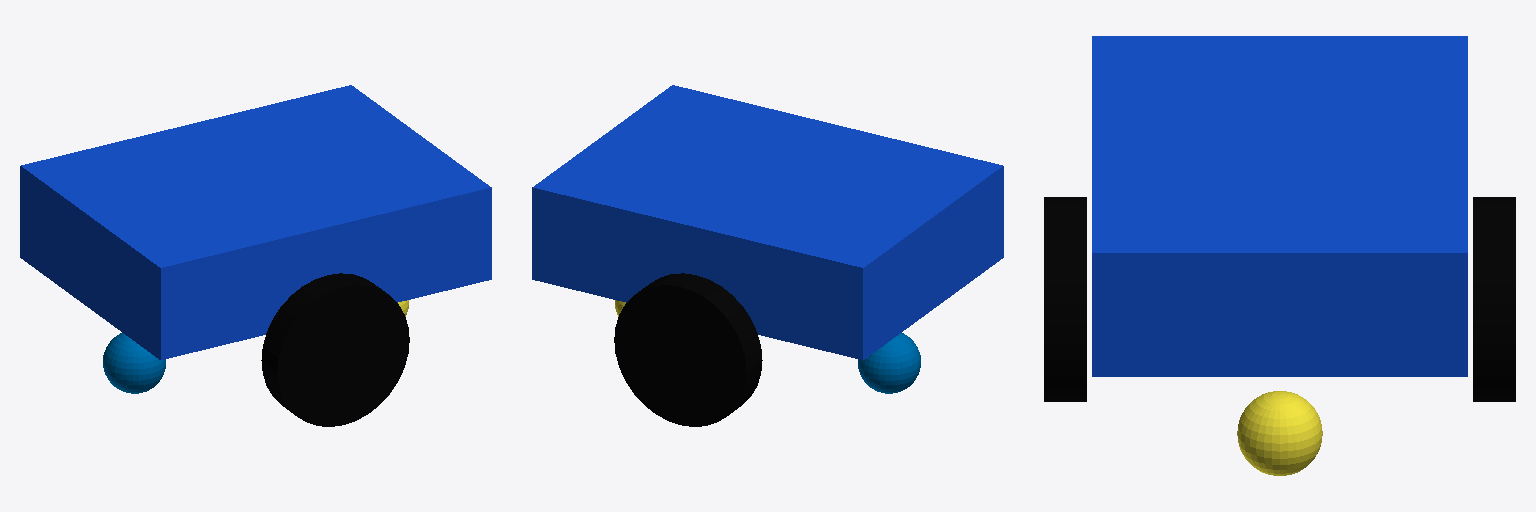
The robot description file, URDF, robot "course_mobile":
<?xml version="1.0"?>
<robot name="course_mobile">
  <material name="blue"><color rgba="0.1 0.35 0.85 1"/></material>
  <material name="black"><color rgba="0.05 0.05 0.05 1"/></material>
  <link name="base_link">
    <inertial><mass value="3"/><inertia ixx="0.0137" ixy="0" ixz="0" iyy="0.0241" iyz="0" izz="0.0346"/></inertial>
    <visual><geometry><box size="0.30 0.22 0.08"/></geometry><material name="blue"/></visual>
    <collision><geometry><box size="0.30 0.22 0.08"/></geometry></collision>
  </link>
  <link name="left_wheel">
    <inertial><mass value="0.15"/><inertia ixx="0.00015" ixy="0" ixz="0" iyy="0.00027" iyz="0" izz="0.00015"/></inertial>
    <visual><origin rpy="1.57079632679 0 0"/><geometry><cylinder radius="0.06" length="0.025"/></geometry><material name="black"/></visual>
    <collision><origin rpy="1.57079632679 0 0"/><geometry><cylinder radius="0.06" length="0.025"/></geometry></collision>
  </link>
  <link name="right_wheel">
    <inertial><mass value="0.15"/><inertia ixx="0.00015" ixy="0" ixz="0" iyy="0.00027" iyz="0" izz="0.00015"/></inertial>
    <visual><origin rpy="1.57079632679 0 0"/><geometry><cylinder radius="0.06" length="0.025"/></geometry><material name="black"/></visual>
    <collision><origin rpy="1.57079632679 0 0"/><geometry><cylinder radius="0.06" length="0.025"/></geometry></collision>
  </link>
  <joint name="left_wheel_joint" type="continuous"><parent link="base_link"/><child link="left_wheel"/><origin xyz="0 0.125 -0.06"/><axis xyz="0 1 0"/><dynamics damping="0.02" friction="0"/></joint>
  <joint name="right_wheel_joint" type="continuous"><parent link="base_link"/><child link="right_wheel"/><origin xyz="0 -0.125 -0.06"/><axis xyz="0 1 0"/><dynamics damping="0.02" friction="0"/></joint>
  <link name="front_caster">
    <inertial><mass value="0.02"/><inertia ixx="0.000005" ixy="0" ixz="0" iyy="0.000005" iyz="0" izz="0.000005"/></inertial>
    <visual><geometry><sphere radius="0.025"/></geometry></visual>
    <collision><geometry><sphere radius="0.025"/></geometry></collision>
  </link>
  <joint name="front_caster_joint" type="fixed"><parent link="base_link"/><child link="front_caster"/><origin xyz="0.11 0 -0.095"/></joint>
  <link name="rear_caster">
    <inertial><mass value="0.02"/><inertia ixx="0.000005" ixy="0" ixz="0" iyy="0.000005" iyz="0" izz="0.000005"/></inertial>
    <visual><geometry><sphere radius="0.025"/></geometry></visual>
    <collision><geometry><sphere radius="0.025"/></geometry></collision>
  </link>
  <joint name="rear_caster_joint" type="fixed"><parent link="base_link"/><child link="rear_caster"/><origin xyz="-0.11 0 -0.095"/></joint>
  <gazebo reference="base_link"><material>Gazebo/Blue</material></gazebo>
  <gazebo reference="left_wheel"><mu1>1</mu1><mu2>1</mu2><material>Gazebo/Black</material></gazebo>
  <gazebo reference="right_wheel"><mu1>1</mu1><mu2>1</mu2><material>Gazebo/Black</material></gazebo>
  <gazebo reference="front_caster"><mu1>0.01</mu1><mu2>0.01</mu2></gazebo>
  <gazebo reference="rear_caster"><mu1>0.01</mu1><mu2>0.01</mu2></gazebo>
  <gazebo>
    <plugin name="differential_drive" filename="libgazebo_ros_diff_drive.so">
      <robotNamespace>/</robotNamespace><updateRate>50</updateRate>
      <leftJoint>left_wheel_joint</leftJoint><rightJoint>right_wheel_joint</rightJoint>
      <wheelSeparation>0.25</wheelSeparation><wheelDiameter>0.12</wheelDiameter>
      <wheelAcceleration>1.0</wheelAcceleration><wheelTorque>3</wheelTorque>
      <commandTopic>cmd_vel</commandTopic><odometryTopic>odom</odometryTopic>
      <odometryFrame>odom</odometryFrame><robotBaseFrame>base_link</robotBaseFrame>
      <odometrySource>world</odometrySource><publishOdomTF>true</publishOdomTF>
      <publishWheelTF>false</publishWheelTF><publishWheelJointState>true</publishWheelJointState>
      <legacyMode>false</legacyMode>
    </plugin>
  </gazebo>
</robot>

--- Render facts (derived) ---
Views: 3 orthographic renders of the robot side by side, from view 1: azimuth 30°, elevation 25°; view 2: azimuth 150°, elevation 25°; view 3: azimuth 270°, elevation 25°.
Model course_mobile with 5 links and 4 joints (2 continuous, 2 fixed), rooted at base_link, posed every joint at zero.
Links seen in each view (by area): view 1: base_link, right_wheel, rear_caster; view 2: base_link, left_wheel, rear_caster; view 3: base_link, left_wheel, right_wheel, front_caster.
Boxes of the visible links, left/top/right/bottom form: base_link: left=20, top=85, right=491, bottom=359; right_wheel: left=261, top=273, right=409, bottom=426; rear_caster: left=103, top=333, right=165, bottom=393; base_link: left=532, top=85, right=1003, bottom=359; left_wheel: left=614, top=273, right=762, bottom=426; rear_caster: left=858, top=333, right=920, bottom=393; base_link: left=1092, top=36, right=1467, bottom=376; left_wheel: left=1473, top=197, right=1515, bottom=401; right_wheel: left=1044, top=197, right=1086, bottom=401; front_caster: left=1237, top=391, right=1322, bottom=475.
Size in the robot's own frame: 0.3 by 0.275 by 0.16 metres.
Geometry: primitives only (box / cylinder / sphere), no mesh files.
